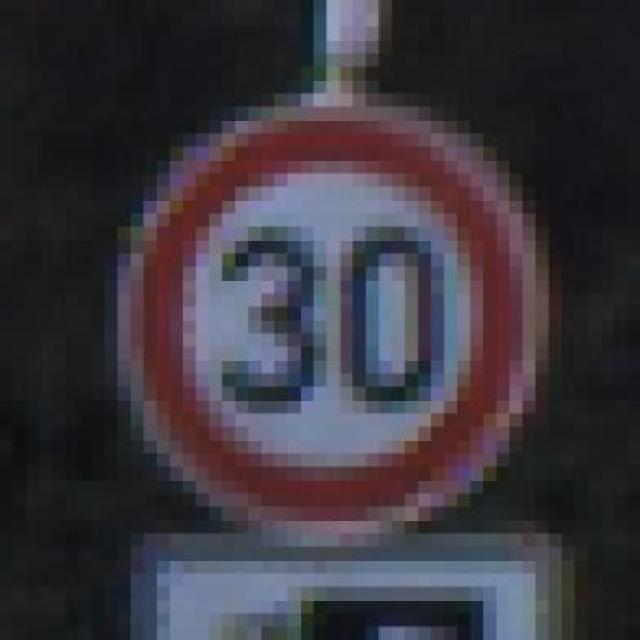Speed Limit 30 KMPh: (103, 67, 574, 547)
